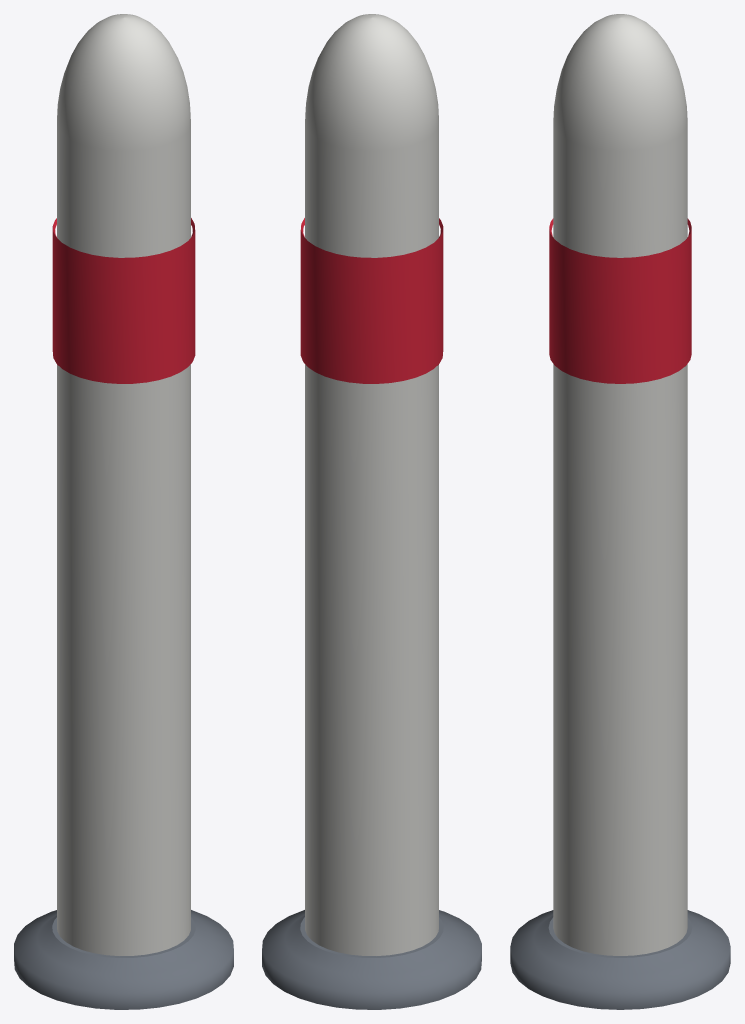
File: bollard.glb
The picture shows the model from 3 angles, left to right: view 1: azimuth 30°, elevation 25°; view 2: azimuth 150°, elevation 25°; view 3: azimuth 270°, elevation 25°; orthographic projection.
Visible parts, largest first — view 1: bollard_body, bollard_band, bollard_base; view 2: bollard_body, bollard_band, bollard_base; view 3: bollard_body, bollard_band, bollard_base.
Part boxes in pixels (x1,y1,x2,y2): bollard_body: (57,14,190,955); bollard_band: (52,226,195,383); bollard_base: (14,910,233,1009); bollard_body: (305,14,438,955); bollard_band: (300,226,443,383); bollard_base: (262,910,481,1009); bollard_body: (553,14,687,955); bollard_band: (549,229,691,383); bollard_base: (510,910,730,1009).
Size of the model in its own units: 0.19 by 0.9 by 0.19.
